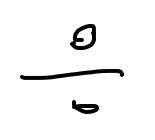div: (20, 23, 123, 114)
